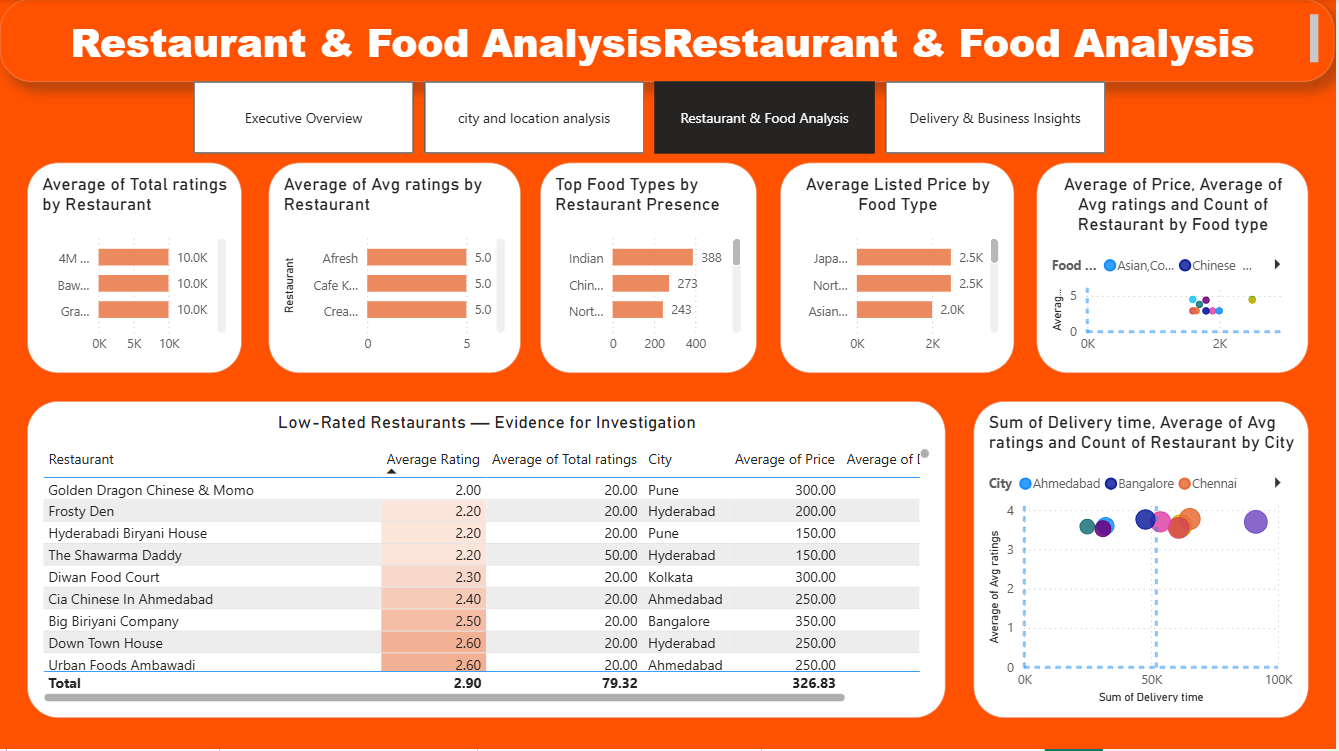

What the dashboard file says about the page in this screenshot:
{"tool":"powerbi","page":{"name":"Restaurant & Food Analysis","canvas":[1280,720],"ordinal":2},"visuals":[{"type":"clusteredBarChart","fields":{"Category":["swiggy_data.Restaurant"],"Y":["Avg(swiggy_data.Total ratings)"]},"box":[26.5,156.9,206,202.2],"z":0},{"type":"textbox","box":[0,0,1279.4,79.4],"z":1000},{"type":"clusteredBarChart","fields":{"Category":["swiggy_data.Restaurant"],"Y":["Avg(swiggy_data.Avg ratings)"]},"box":[257,156.9,241.9,202.2],"z":2000},{"type":"tableEx","title":"Low-Rated Restaurants — Evidence for Investigation","fields":{"Values":["swiggy_data.Restaurant","swiggy_data.Average Rating","Avg(swiggy_data.Total ratings)","swiggy_data.City","Avg(swiggy_data.Price)","Avg(swiggy_data.Delivery time)"]},"box":[26.1,385.5,880.6,304.3],"z":3000},{"type":"clusteredBarChart","title":"Top Food Types by Restaurant Presence","fields":{"Category":["swiggy_data.Food type"],"Y":["Count(swiggy_data.Restaurant)"]},"box":[517.8,156.9,207.9,202.2],"z":4000},{"type":"clusteredBarChart","title":"Average Listed Price by Food Type","fields":{"Category":["swiggy_data.Food type"],"Y":["Avg(swiggy_data.Price)"]},"box":[748.4,156.9,224.9,202.2],"z":5000},{"type":"scatterChart","fields":{"X":["Avg(swiggy_data.Price)"],"Series":["swiggy_data.Food type"],"Size":["Count(swiggy_data.Restaurant)"],"Y":["swiggy_data.Avg ratings"]},"box":[994,156.9,260.8,202.2],"z":6000},{"type":"scatterChart","fields":{"X":["Sum(swiggy_data.Delivery time)"],"Y":["Avg(swiggy_data.Avg ratings)"],"Series":["swiggy_data.City"],"Size":["Count(swiggy_data.Restaurant)"]},"box":[933.3,385.5,321.3,304.3],"z":7000},{"type":"pageNavigator","box":[185.2,79.4,875,69.9],"z":8000}]}

Visuals, with their boxes in screenshot pixels (x1, y1, x2, y2), scaled from the page's 1280x720 canvas onto the 1339x751 screenshot:
clusteredBarChart - swiggy_data.Restaurant x Avg(swiggy_data.Total ratings): l=28, t=164, r=243, b=375
textbox: l=0, t=0, r=1338, b=83
clusteredBarChart - swiggy_data.Restaurant x Avg(swiggy_data.Avg ratings): l=269, t=164, r=522, b=375
"Low-Rated Restaurants — Evidence for Investigation" tableEx: l=27, t=402, r=948, b=719
"Top Food Types by Restaurant Presence" clusteredBarChart: l=542, t=164, r=759, b=375
"Average Listed Price by Food Type" clusteredBarChart: l=783, t=164, r=1018, b=375
scatterChart - Avg(swiggy_data.Price) x swiggy_data.Food type: l=1040, t=164, r=1313, b=375
scatterChart - Sum(swiggy_data.Delivery time) x Avg(swiggy_data.Avg ratings): l=976, t=402, r=1312, b=719
pageNavigator: l=194, t=83, r=1109, b=156
